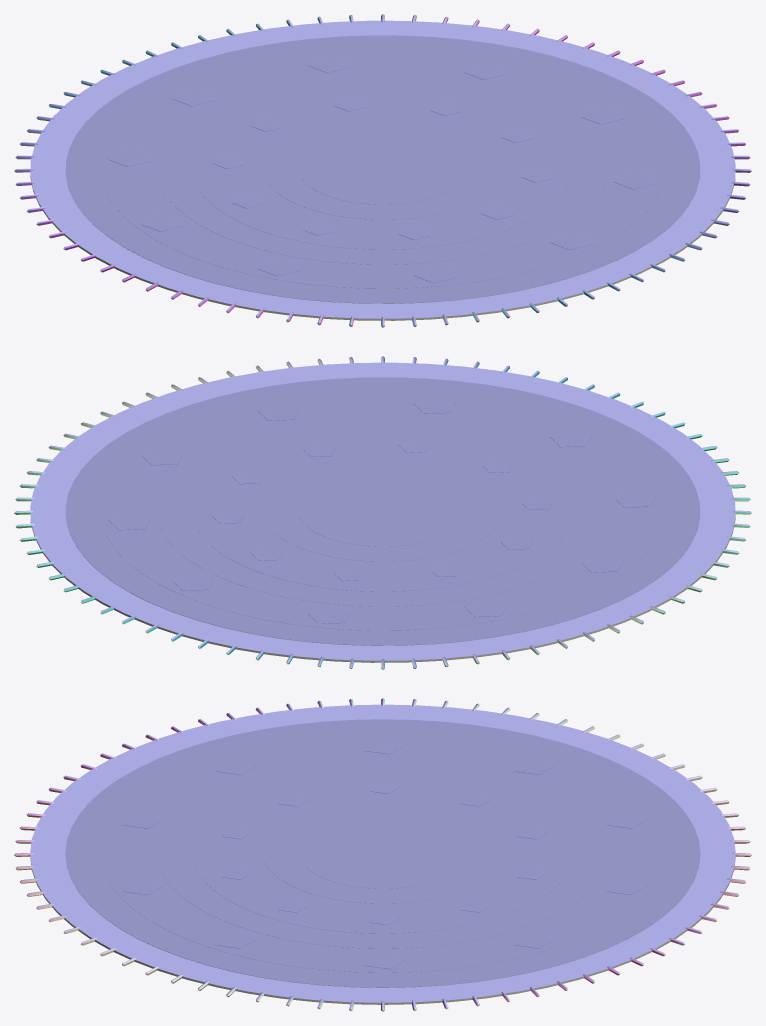
The model's file is env_rug_party.glb.
The picture shows the model from 3 angles, top to bottom: view 1: azimuth 30°, elevation 25°; view 2: azimuth 150°, elevation 25°; view 3: azimuth 270°, elevation 25°; orthographic projection.
Visible parts, largest first — view 1: env_rug_party_mesh; view 2: env_rug_party_mesh; view 3: env_rug_party_mesh.
Boxes of the visible parts, x1,y1,x2,y2 form: env_rug_party_mesh: (14, 14, 751, 327); env_rug_party_mesh: (14, 356, 751, 669); env_rug_party_mesh: (14, 698, 751, 1011).
Bounding box in the file's own units: 5.23 × 0.033 × 5.23.
